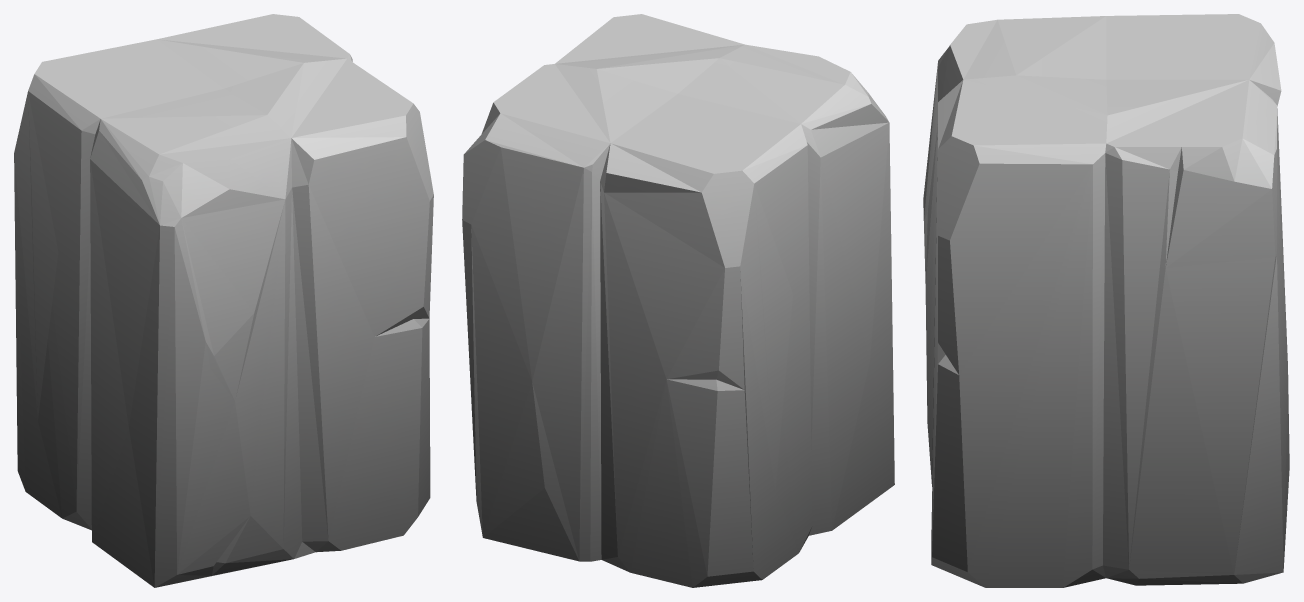
File: rockblock3.glb
The picture shows the model from 3 angles, left to right: view 1: azimuth 30°, elevation 25°; view 2: azimuth 150°, elevation 25°; view 3: azimuth 270°, elevation 25°; orthographic projection. The views are drawn at different scales.
Visible parts, largest first — view 1: RockBlock3_mesh1; view 2: RockBlock3_mesh1; view 3: RockBlock3_mesh1.
Part boxes in pixels (x1,y1,x2,y2): RockBlock3_mesh1: (14, 14, 433, 587); RockBlock3_mesh1: (462, 14, 894, 587); RockBlock3_mesh1: (923, 14, 1289, 587).
Bounding box in the file's own units: 0.8927 × 1.24 × 0.9368.
1 material, 1 textured.
